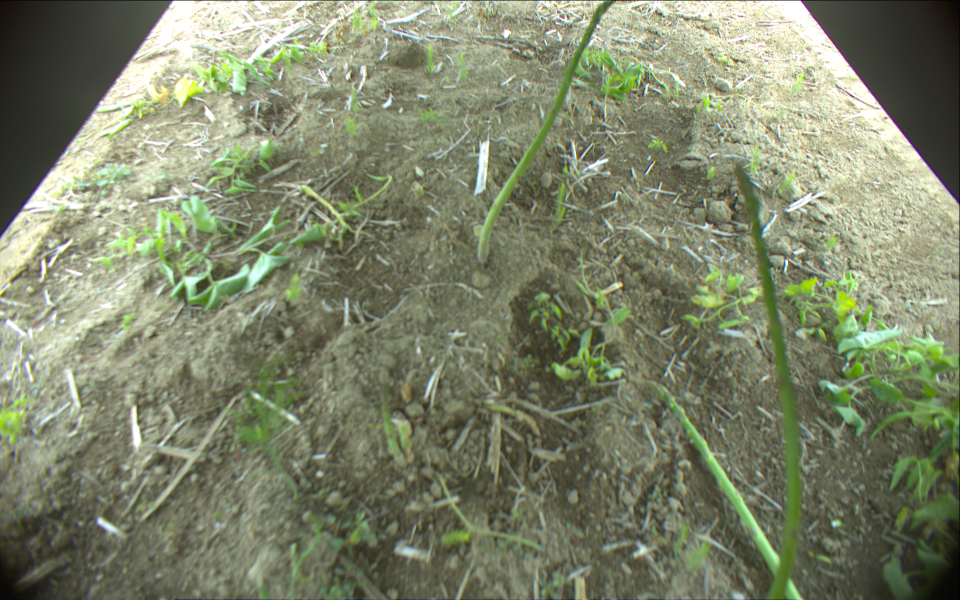aspa: (478, 1, 618, 265), (647, 379, 802, 600), (729, 163, 802, 600), (380, 385, 398, 459)
